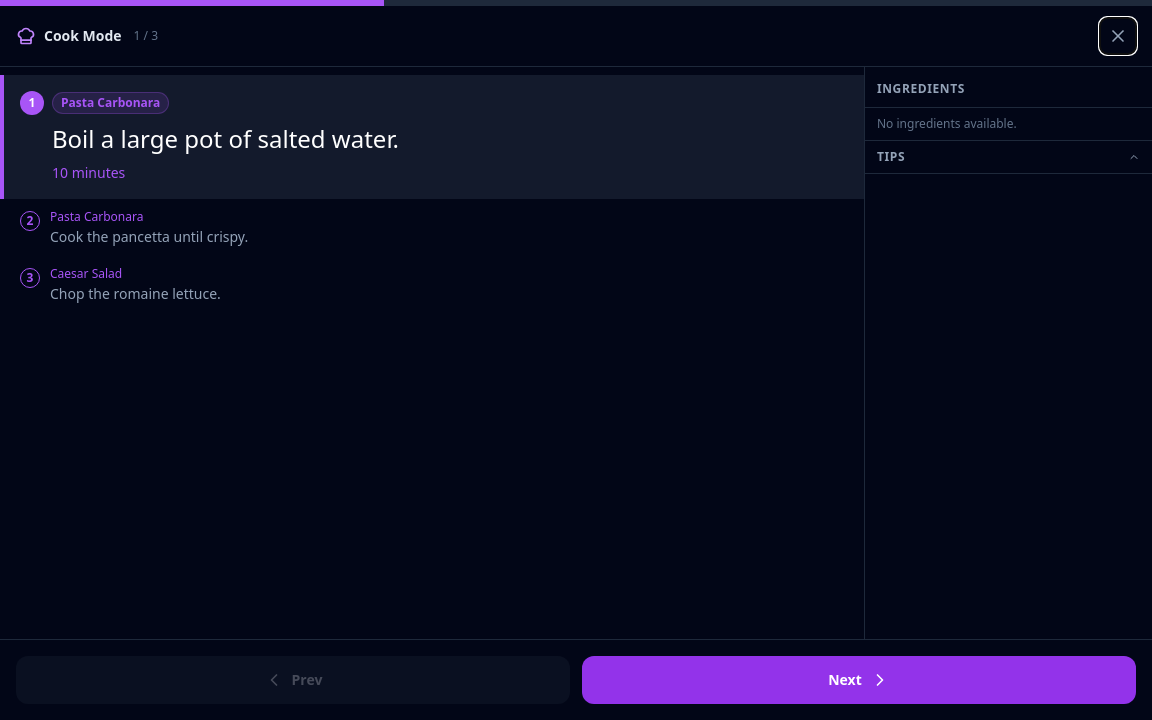
Test: CookModeDialog › shows Done! button on last step
Note: Navigate to last step
Click the button with aria-label "Next step" at point(859, 680), box [582,656,1136,704]
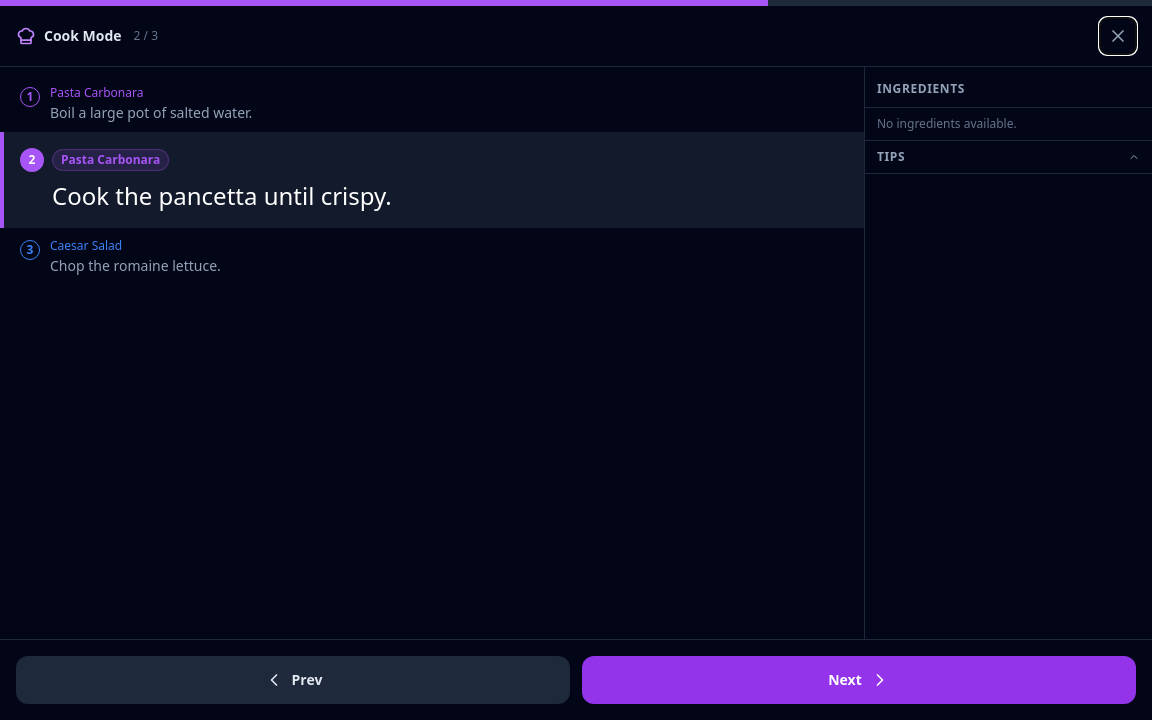
Click the button with aria-label "Next step" at point(859, 680), box [582,656,1136,704]
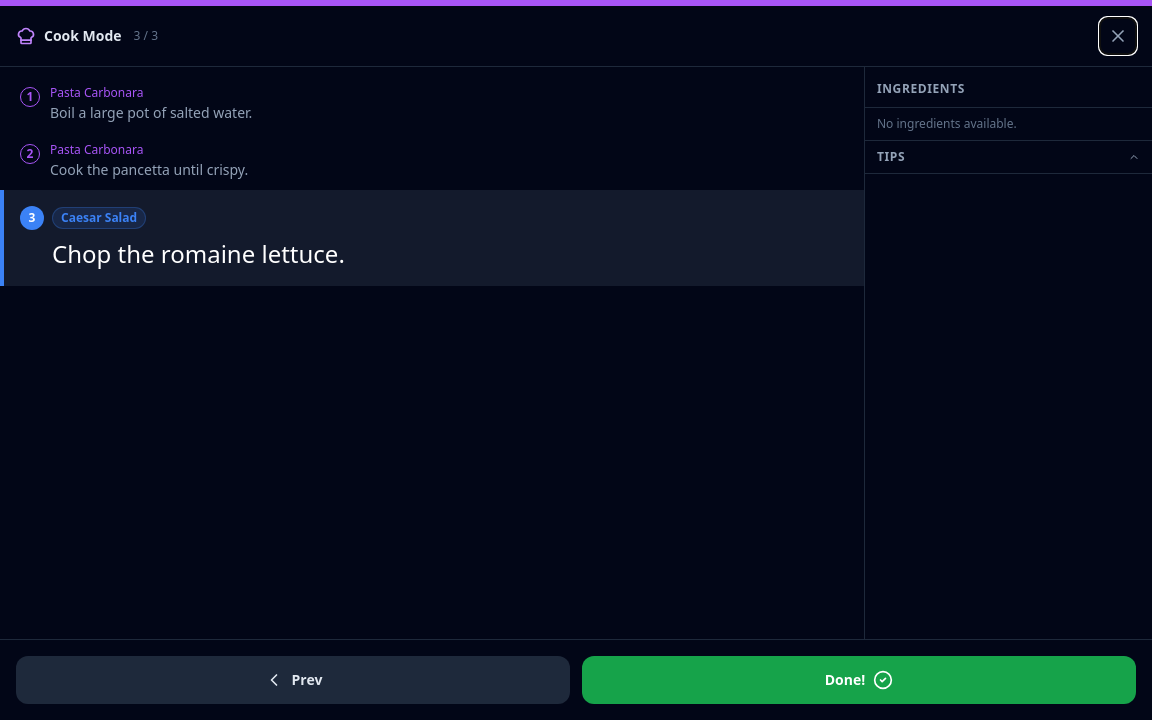
Result: the button with aria-label "Finish cooking" is shown at [582,656,1136,704]
